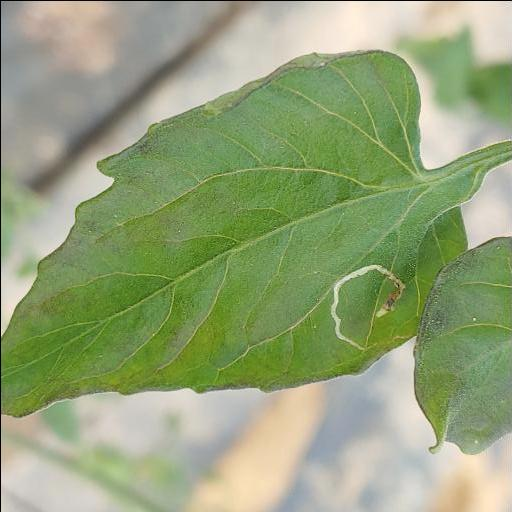Leaf Miner: (3, 47, 470, 417)
